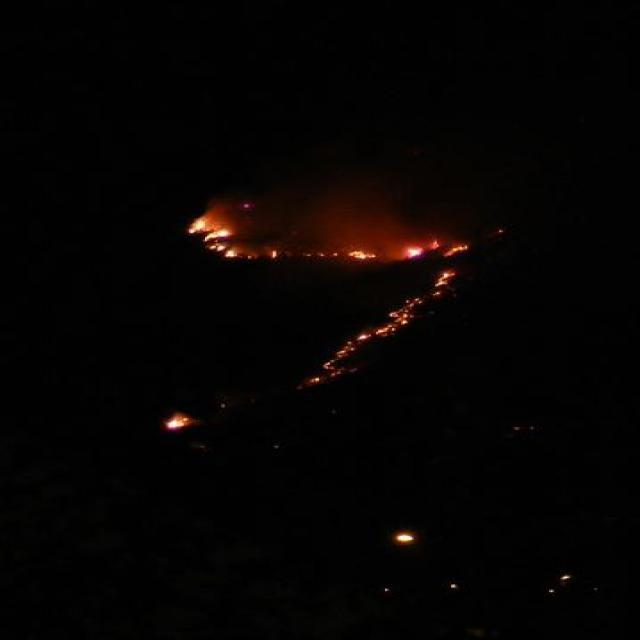Fire: (186, 204, 237, 258), (323, 330, 382, 368), (387, 298, 420, 334), (268, 250, 378, 260), (429, 267, 457, 301), (158, 410, 198, 432), (296, 372, 346, 389), (440, 245, 470, 258), (406, 246, 426, 258), (430, 238, 440, 250), (242, 254, 258, 258)
Smoke: (265, 139, 448, 242)
